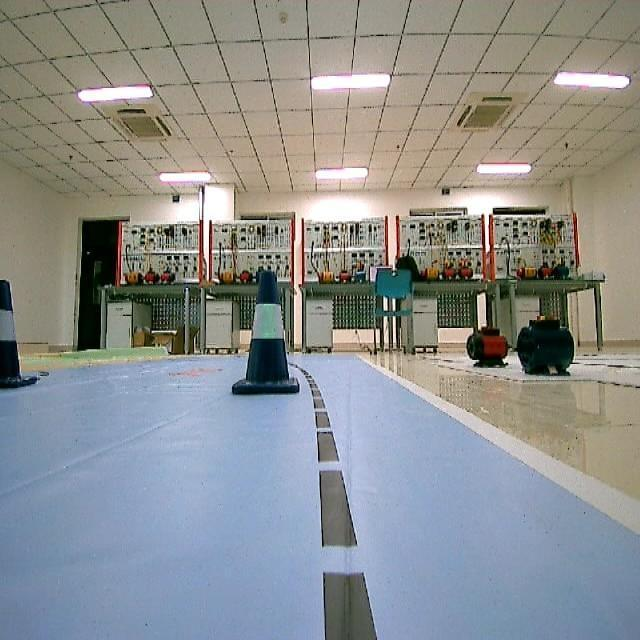obstacle: (230, 264, 307, 404), (0, 270, 52, 402)
